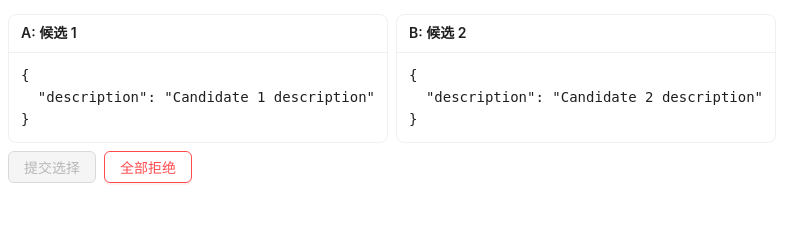
Test: ConflictResolver 2-candidate unified card selection › allows card selection and edit for 2-candidate conflicts
Click card A
Click the text "A: 候选 1 { \"description\": \"Candidate 1 description\" }".
click(198, 78)  # box x1=8 y1=14 x2=388 y2=142
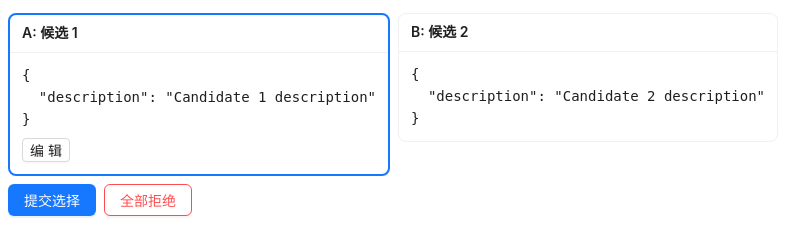
expect the button "编 辑" is shown: met, box x1=22 y1=138 x2=70 y2=162
expect the button "提交选择" is enabled: met, box x1=8 y1=184 x2=96 y2=216
